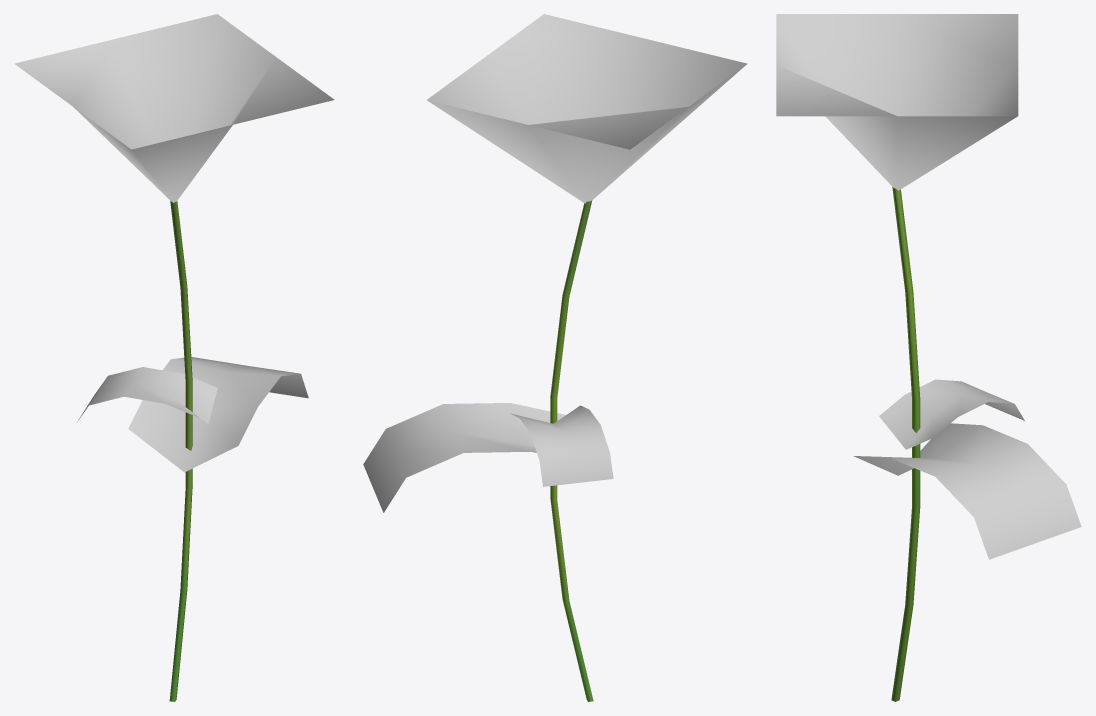
File: SM_flower_16.fbx
3 renders of one model, left to right at view 1: azimuth 30°, elevation 25°; view 2: azimuth 150°, elevation 25°; view 3: azimuth 270°, elevation 25°, orthographic. The views are drawn at different scales.
Parts seen in each view (by area): view 1: SM_flower_16; view 2: SM_flower_16; view 3: SM_flower_16.
Boxes of the visible parts, left/top/right/bottom form: SM_flower_16: left=14, top=14, right=334, bottom=701; SM_flower_16: left=363, top=14, right=747, bottom=701; SM_flower_16: left=776, top=14, right=1081, bottom=701.
Bounding box in the file's own units: 31.23 × 65.67 × 28.57.
